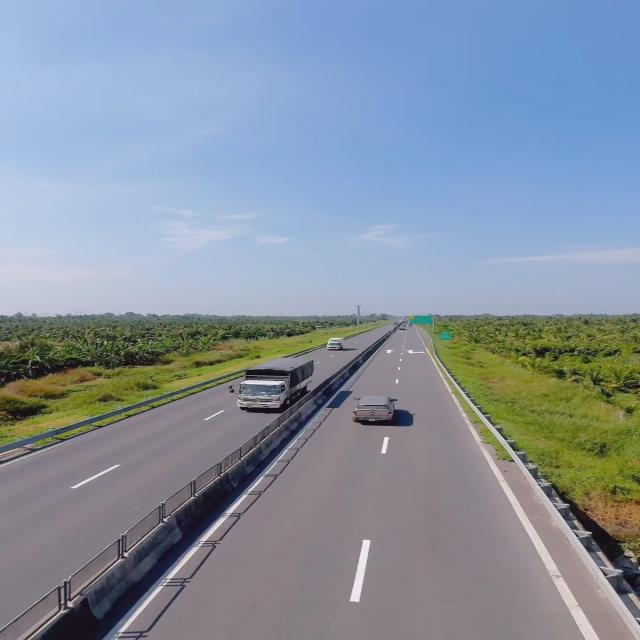car: (351, 400, 398, 428)
truck: (235, 358, 318, 411)
